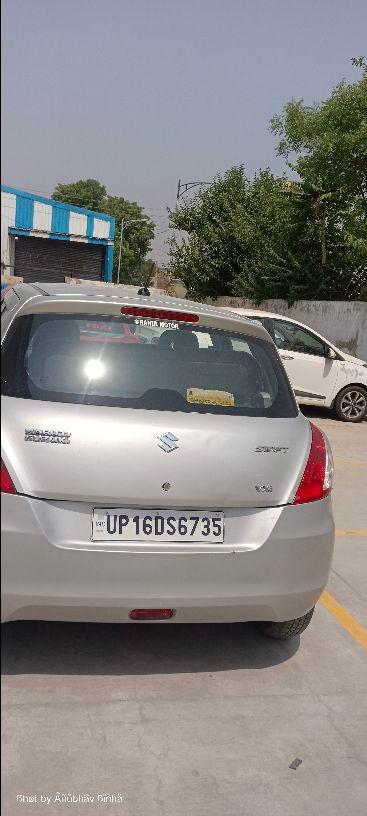license_plate: (89, 506, 225, 543)
